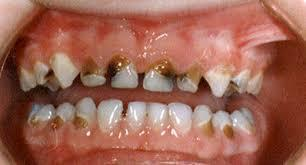cavity: (106, 47, 143, 92), (140, 54, 178, 97), (201, 58, 239, 99), (45, 48, 80, 88), (172, 58, 207, 96), (93, 94, 125, 134), (163, 98, 196, 136), (77, 52, 110, 90), (191, 100, 219, 140), (228, 105, 263, 137), (242, 68, 274, 101), (208, 107, 234, 145), (73, 94, 98, 133), (123, 96, 150, 132), (145, 99, 171, 132), (227, 64, 253, 97), (50, 101, 77, 130), (26, 103, 55, 130), (31, 57, 53, 89), (15, 62, 37, 94)
